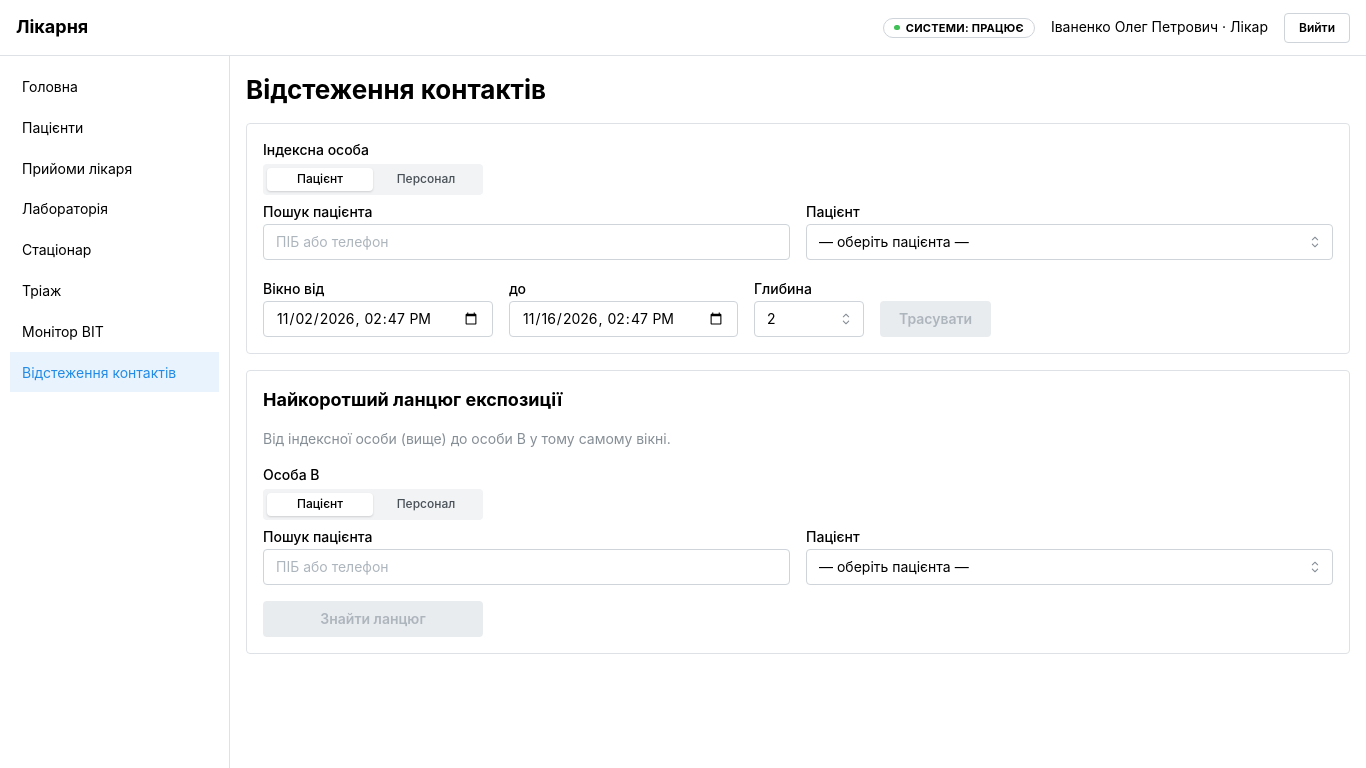
Test: Lab 2 pages (MSW) › tracing: 503 GRAPH_UNAVAILABLE shows a clear message
The image size is (1366, 768).
Select "Лисенко Микола Іванович, 12.12.1950" in the 1st dropdown labelled "Пацієнт" at (1070,242), box [806,224,1333,260]
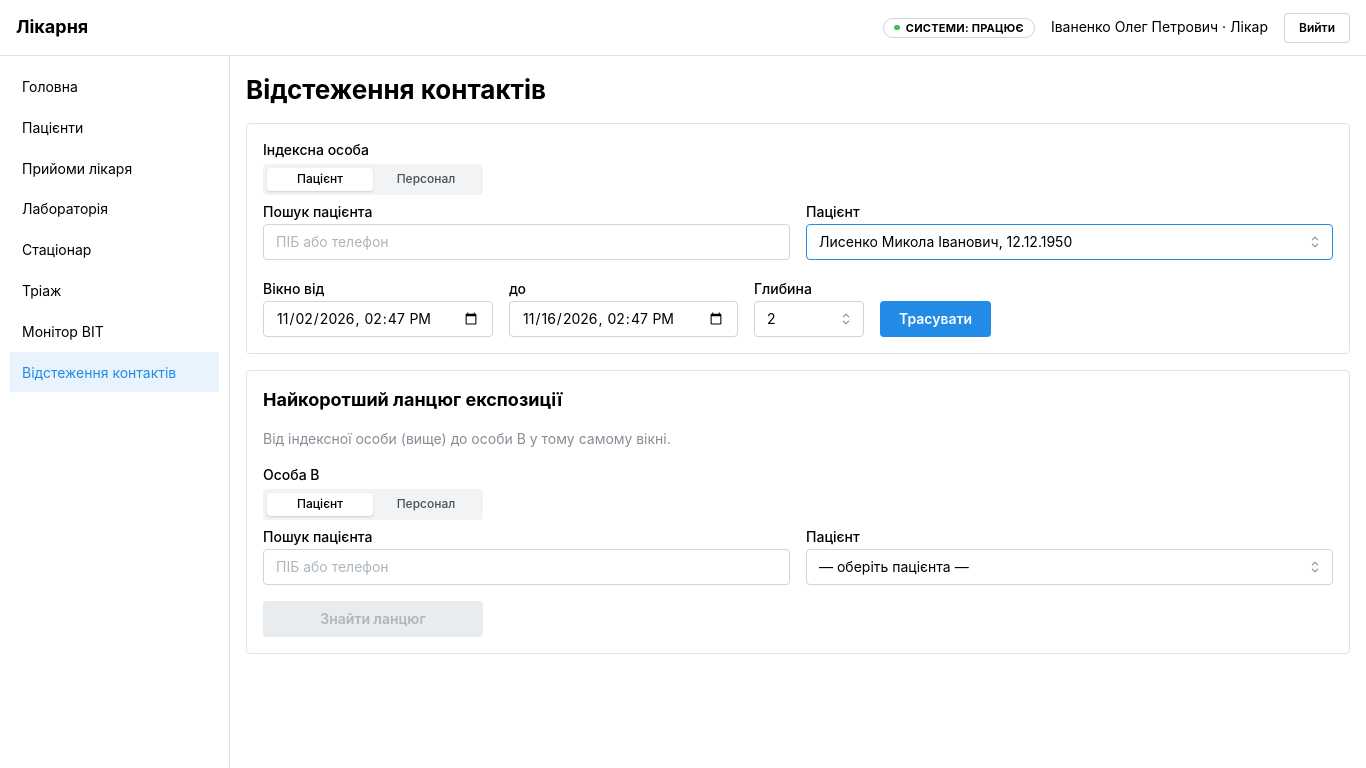
Click the button "Трасувати" at (936,319), box [880,301,991,337]
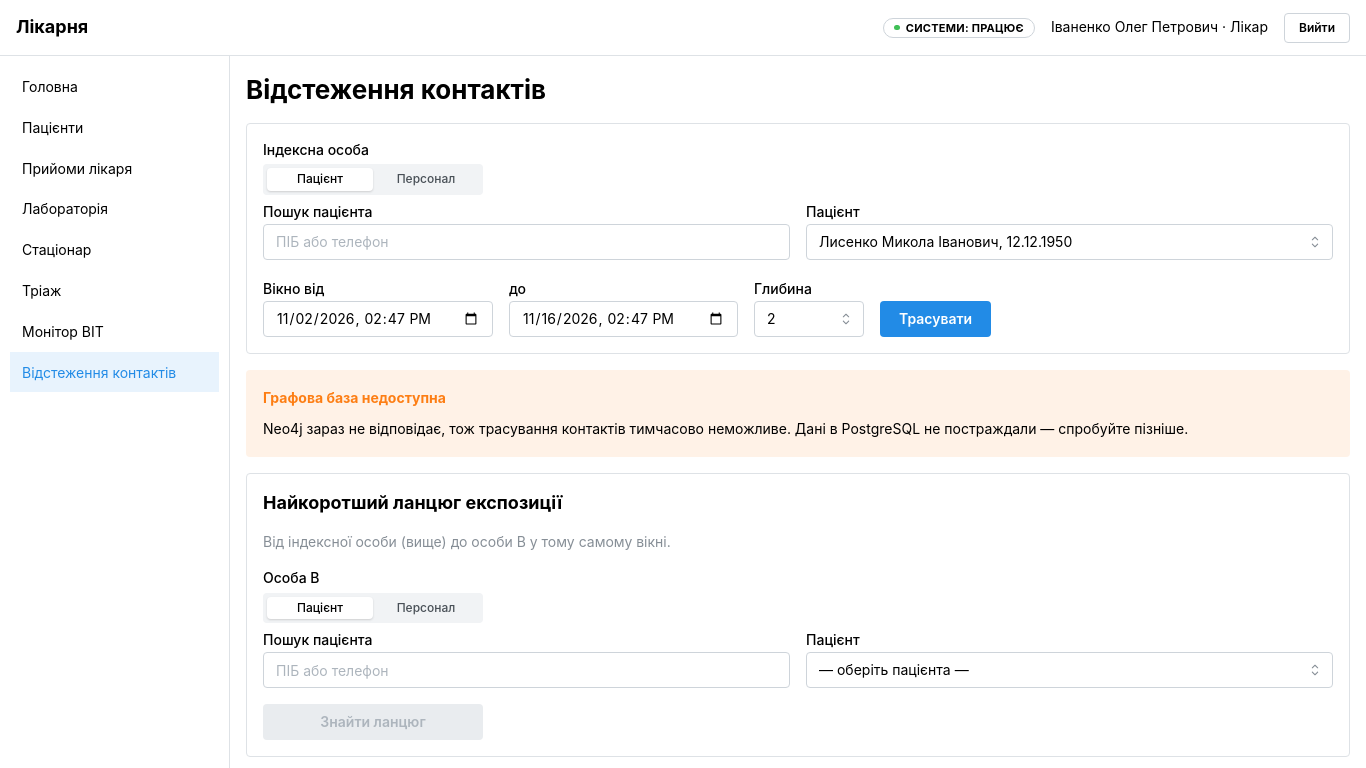
Expected: the message with test id "graph-unavailable" shows "Графова база недоступна", [263,389,446,406]
